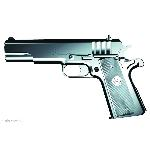Pistol: (4, 34, 146, 120)
